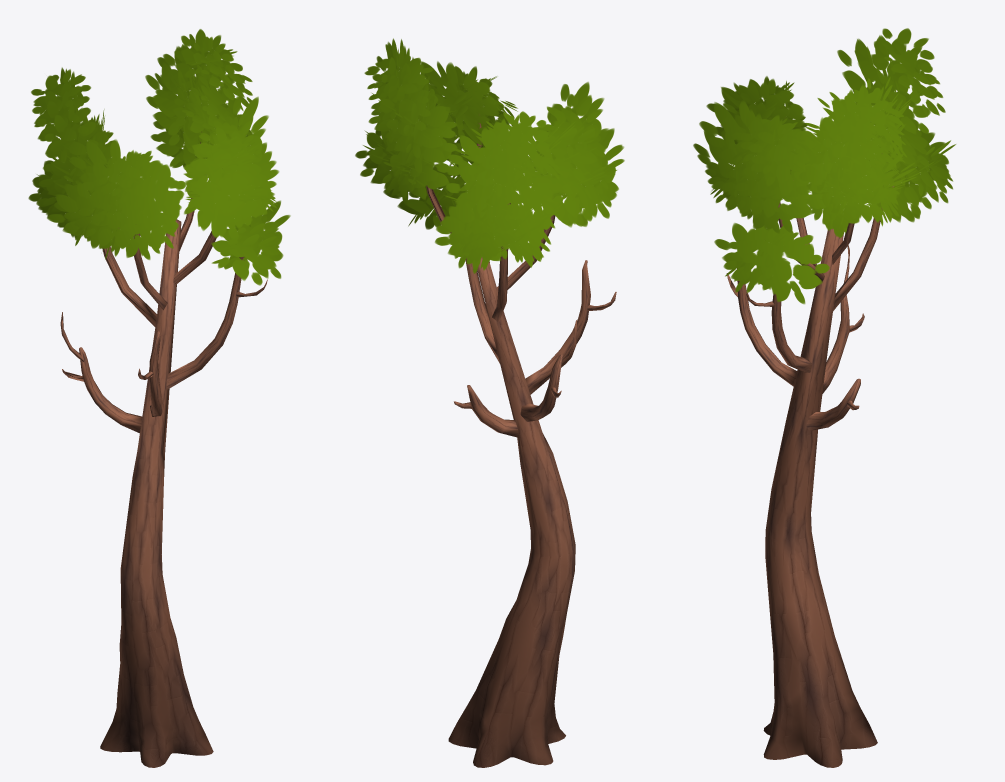
The model's file is tree-1.glb.
3 views of the same model, side by side, from view 1: azimuth 30°, elevation 25°; view 2: azimuth 150°, elevation 25°; view 3: azimuth 270°, elevation 25° (orthographic). The views are drawn at different scales.
Parts seen in each view (by area): view 1: CommonTree_4; view 2: CommonTree_4; view 3: CommonTree_4.
Boxes of the visible parts, left/top/right/bottom form: CommonTree_4: left=28, top=29, right=290, bottom=767; CommonTree_4: left=355, top=38, right=624, bottom=767; CommonTree_4: left=693, top=28, right=955, bottom=767.
Bounding box in the file's own units: 3.83 × 9.44 × 3.76.
Materials: 2 (2 with a texture image).
